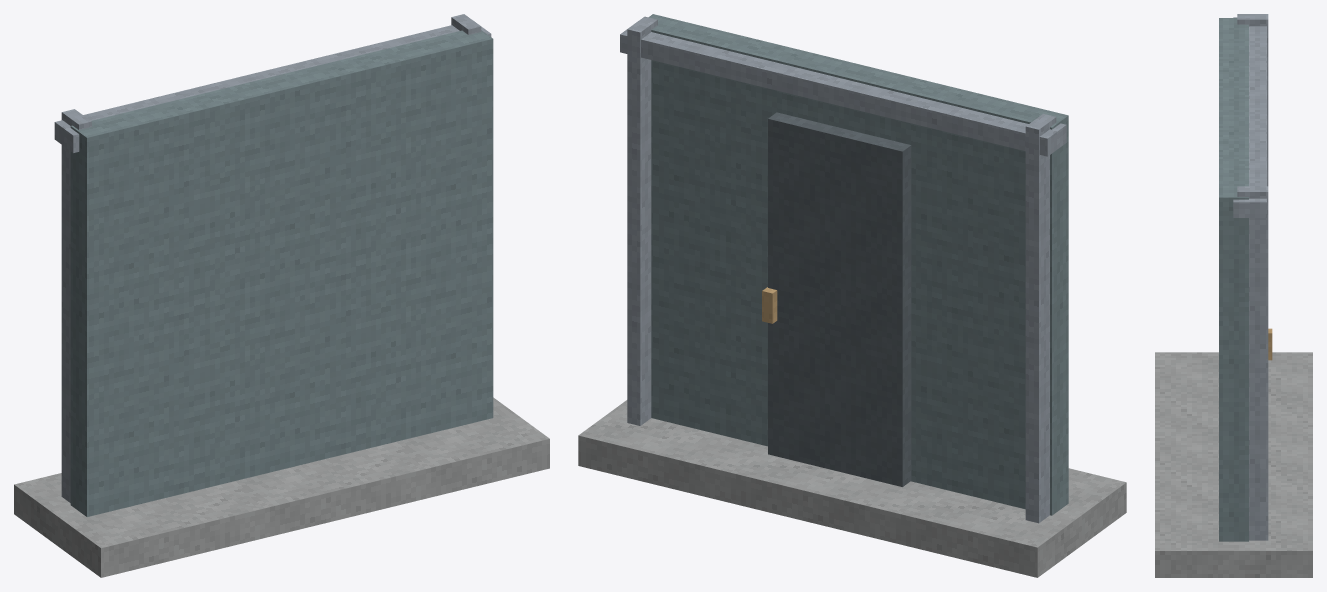
File: level_blockout_ship_watertight_bulkhead.glb
3 views of the same model, side by side, from view 1: azimuth 30°, elevation 25°; view 2: azimuth 150°, elevation 25°; view 3: azimuth 270°, elevation 25° (orthographic). The views are drawn at different scales.
Parts seen in each view (by area): view 1: level_blockout_ship_watertight_bulkhead; view 2: level_blockout_ship_watertight_bulkhead; view 3: level_blockout_ship_watertight_bulkhead.
Boxes of the visible parts, bbox=[...] form: level_blockout_ship_watertight_bulkhead: bbox=[14, 14, 549, 577]; level_blockout_ship_watertight_bulkhead: bbox=[578, 14, 1126, 577]; level_blockout_ship_watertight_bulkhead: bbox=[1155, 14, 1312, 577].
Bounding box in the file's own units: 3.48 × 3.08 × 1.17.
Materials: 5 (5 with a texture image).
